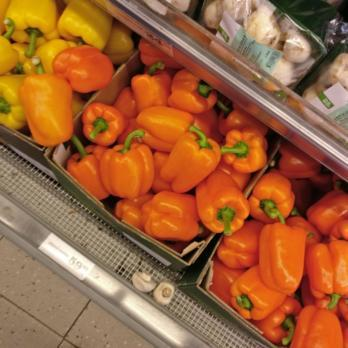Capsicum: (249, 167, 348, 347), (139, 117, 278, 241), (0, 2, 116, 146), (87, 72, 211, 200), (211, 246, 252, 302)
